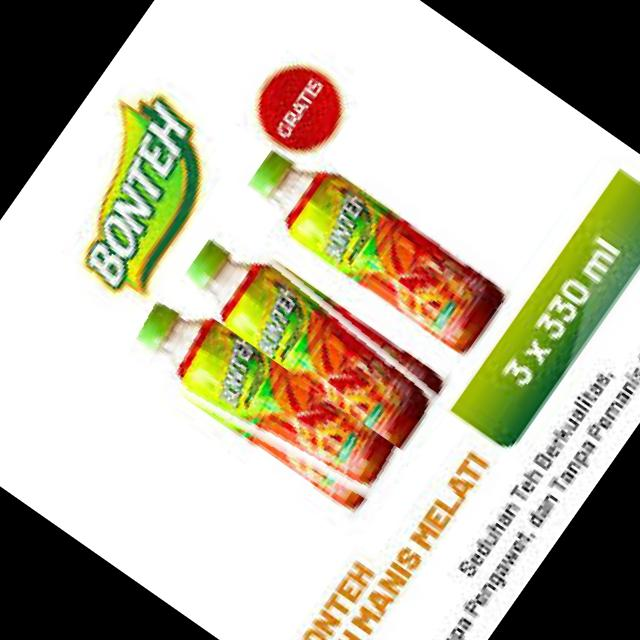plastic bottle: (115, 278, 413, 528), (162, 208, 456, 452), (229, 123, 519, 361)
